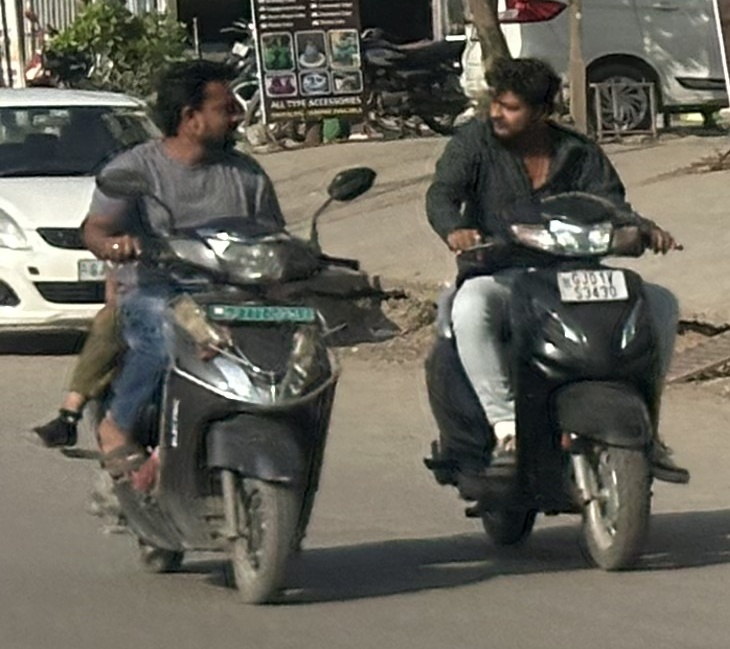BikeWithRider: (19, 52, 387, 610), (408, 54, 698, 578)
NoHelmet: (148, 51, 255, 156), (480, 53, 562, 150)
